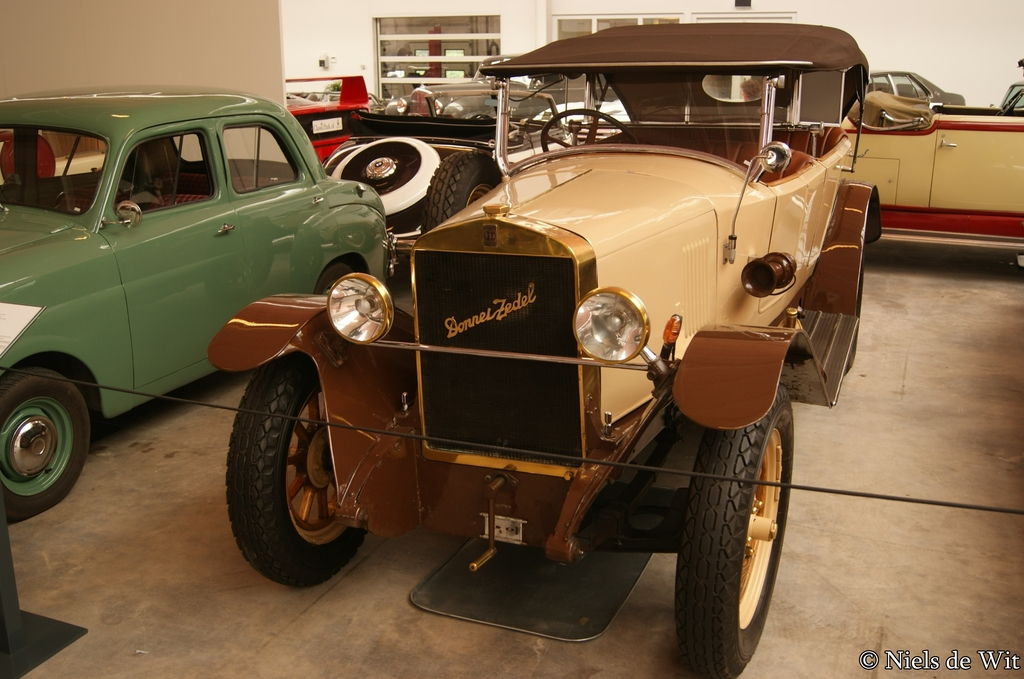Car: (204, 21, 881, 675), (0, 81, 384, 513), (316, 82, 566, 231), (839, 89, 1023, 244), (282, 77, 373, 157), (403, 81, 561, 121), (864, 68, 967, 107), (991, 83, 1023, 102)
